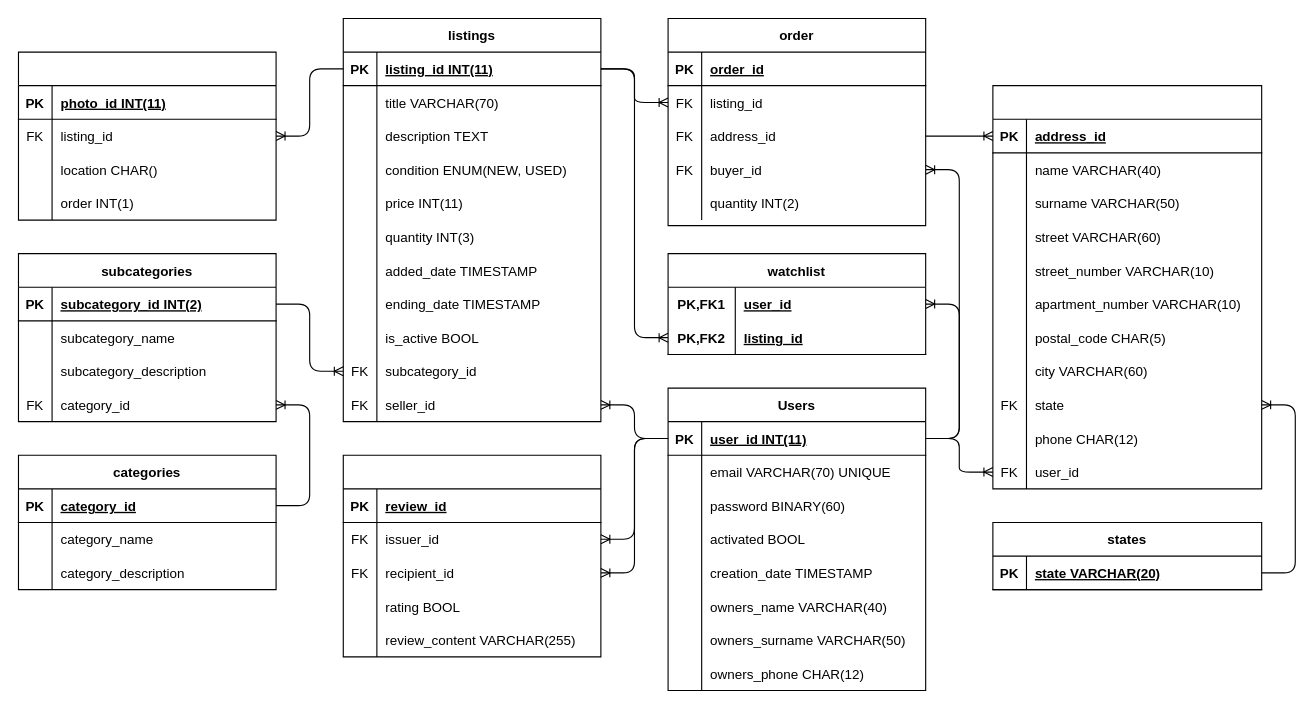
Image size: 1314x709. Some labels were removed from this diagram. Each missing label, with the box of its shape:
listing_img: (17, 51, 276, 220)
reviews: (342, 454, 601, 657)
user_addresses: (992, 85, 1262, 489)
